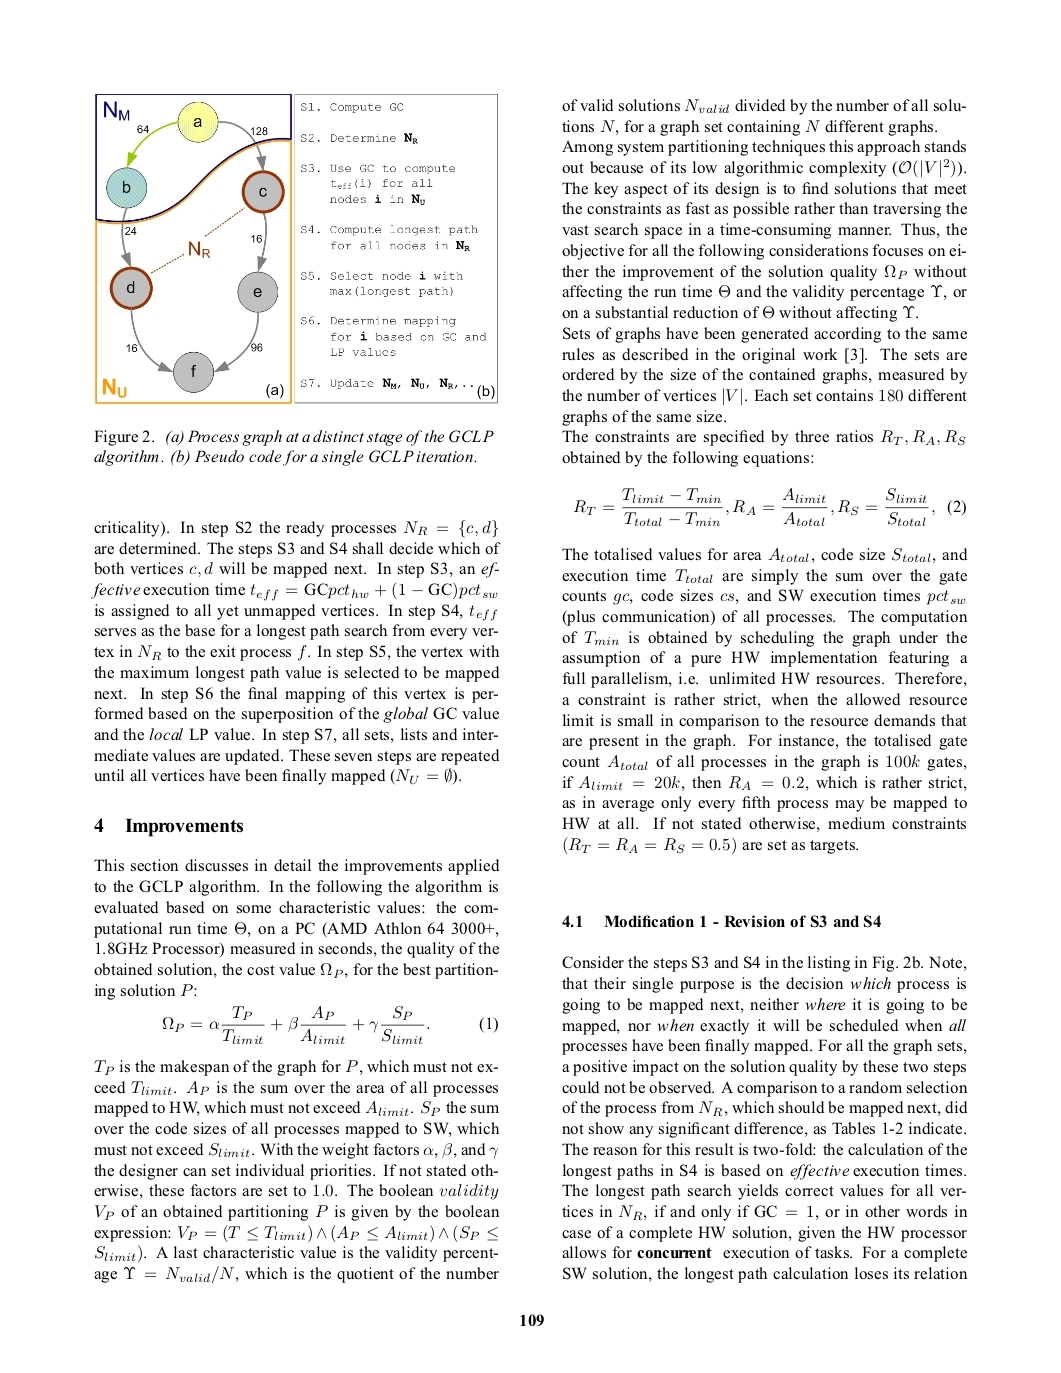figure: (294, 94, 497, 403), (94, 94, 291, 403)
formula: (573, 487, 965, 527), (162, 1005, 497, 1044)
